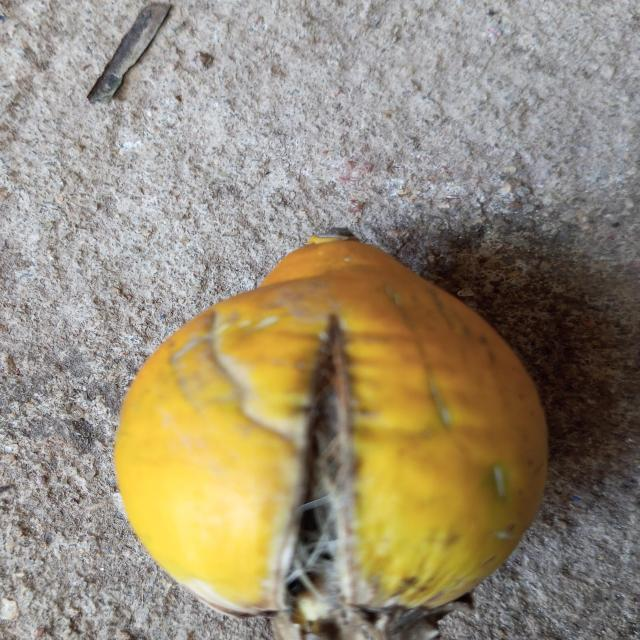damaged: (113, 237, 549, 640)
